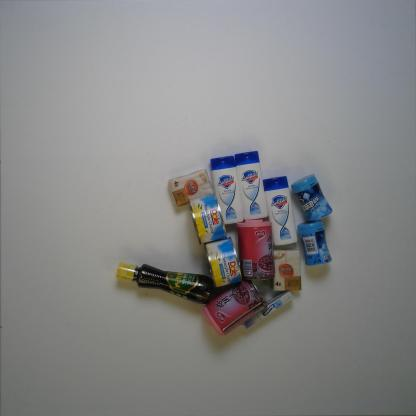Candy: (242, 291, 294, 328)
Canned Food: (200, 278, 269, 342), (235, 218, 275, 281), (186, 192, 229, 249), (203, 236, 245, 288)
Gum: (291, 173, 333, 224), (298, 222, 332, 266)
Personal Hygiene: (262, 173, 299, 247), (207, 154, 245, 226), (233, 150, 268, 221)
Seasoner: (114, 258, 218, 306)
Tissue: (166, 167, 213, 209), (274, 249, 304, 292)
